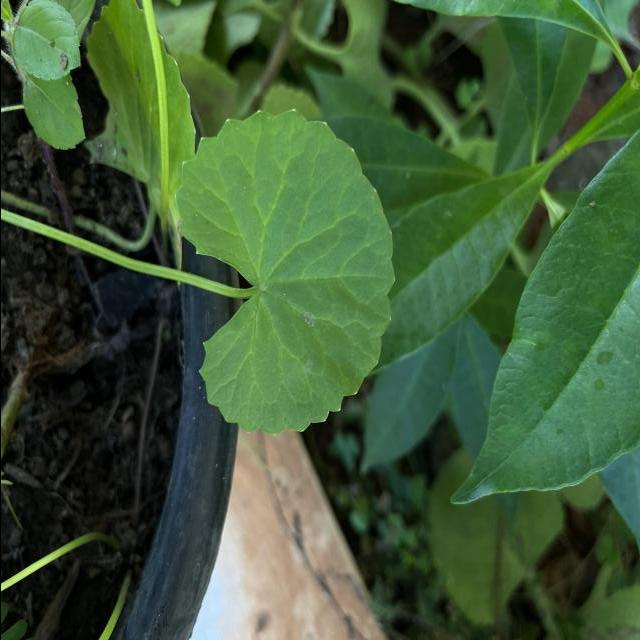Centella asiatica: (169, 100, 398, 438)
